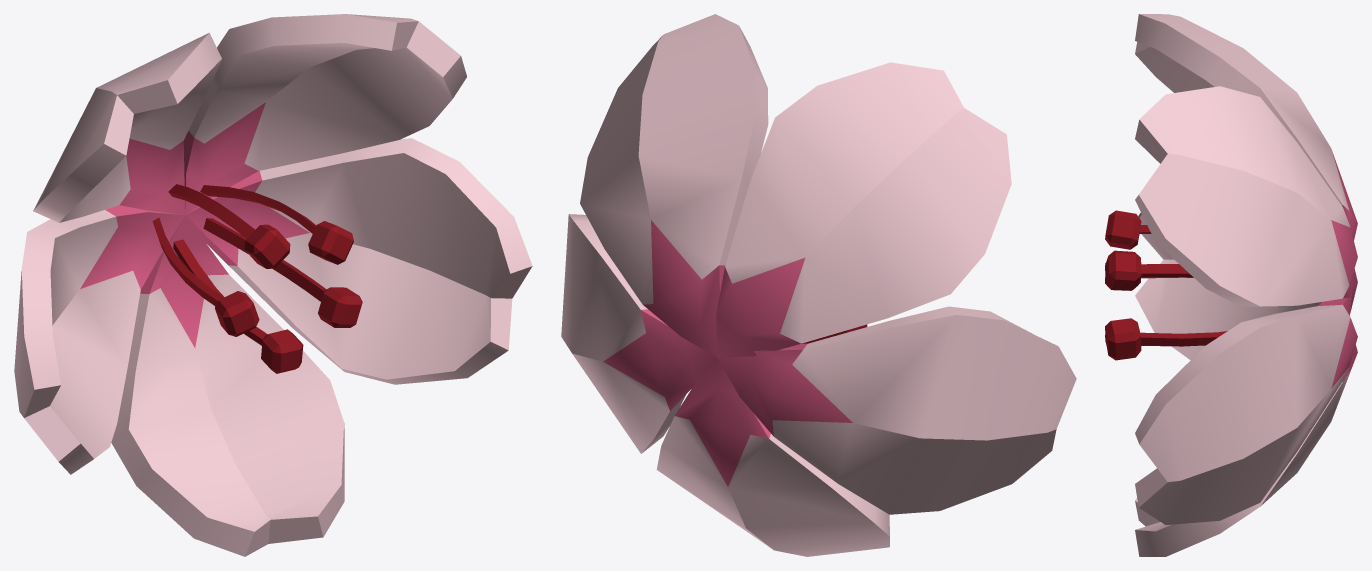
File: sakura-flower.glb
3 views of the same model, side by side, from view 1: azimuth 30°, elevation 25°; view 2: azimuth 150°, elevation 25°; view 3: azimuth 270°, elevation 25° (orthographic). The views are drawn at different scales.
Visible parts, largest first — view 1: Decoration_SakuraFlower; view 2: Decoration_SakuraFlower; view 3: Decoration_SakuraFlower.
Boxes of the visible parts, x1,y1,x2,y2 form: Decoration_SakuraFlower: (14,14,532,556); Decoration_SakuraFlower: (561,14,1076,556); Decoration_SakuraFlower: (1105,14,1357,556).
Bounding box in the file's own units: 0.9715 × 0.954 × 0.4494.
Materials: 1 (1 with a texture image).
